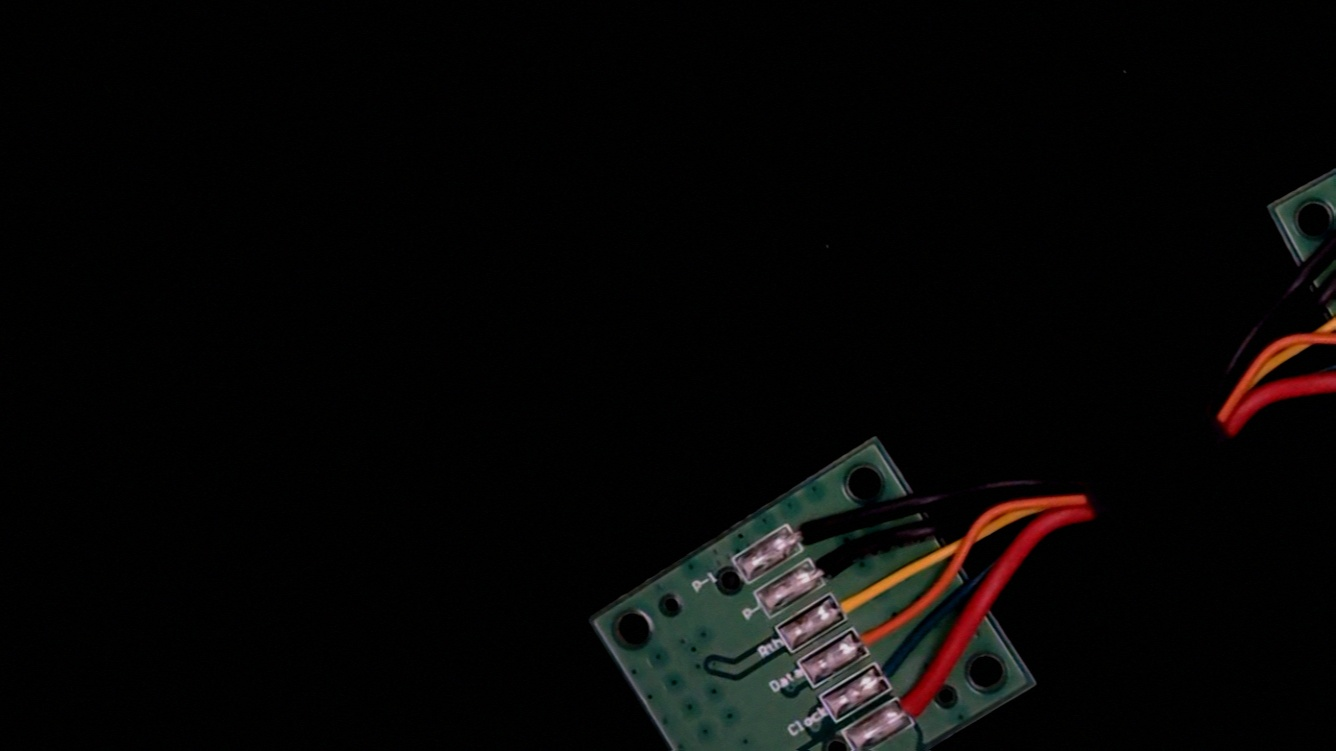Black: (793, 533, 869, 596)
Black1: (772, 498, 849, 560)
Green: (859, 639, 934, 700)
Orange: (839, 606, 908, 664)
Red: (882, 675, 956, 736)
Yellow: (816, 567, 895, 631)
